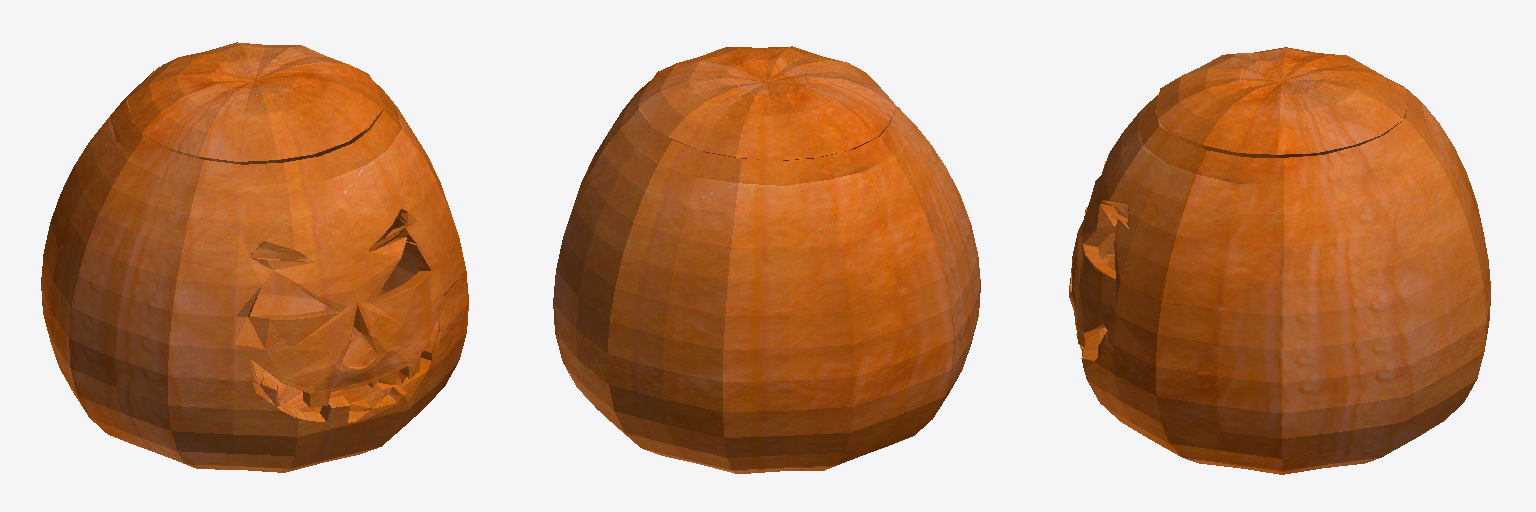
The picture shows the model from 3 angles: view 1: azimuth 30°, elevation 25°; view 2: azimuth 150°, elevation 25°; view 3: azimuth 270°, elevation 25°; orthographic projection.
Size of the model in its own units: 5.95 by 5.52 by 5.85.
Materials: 1 (1 with a texture image).